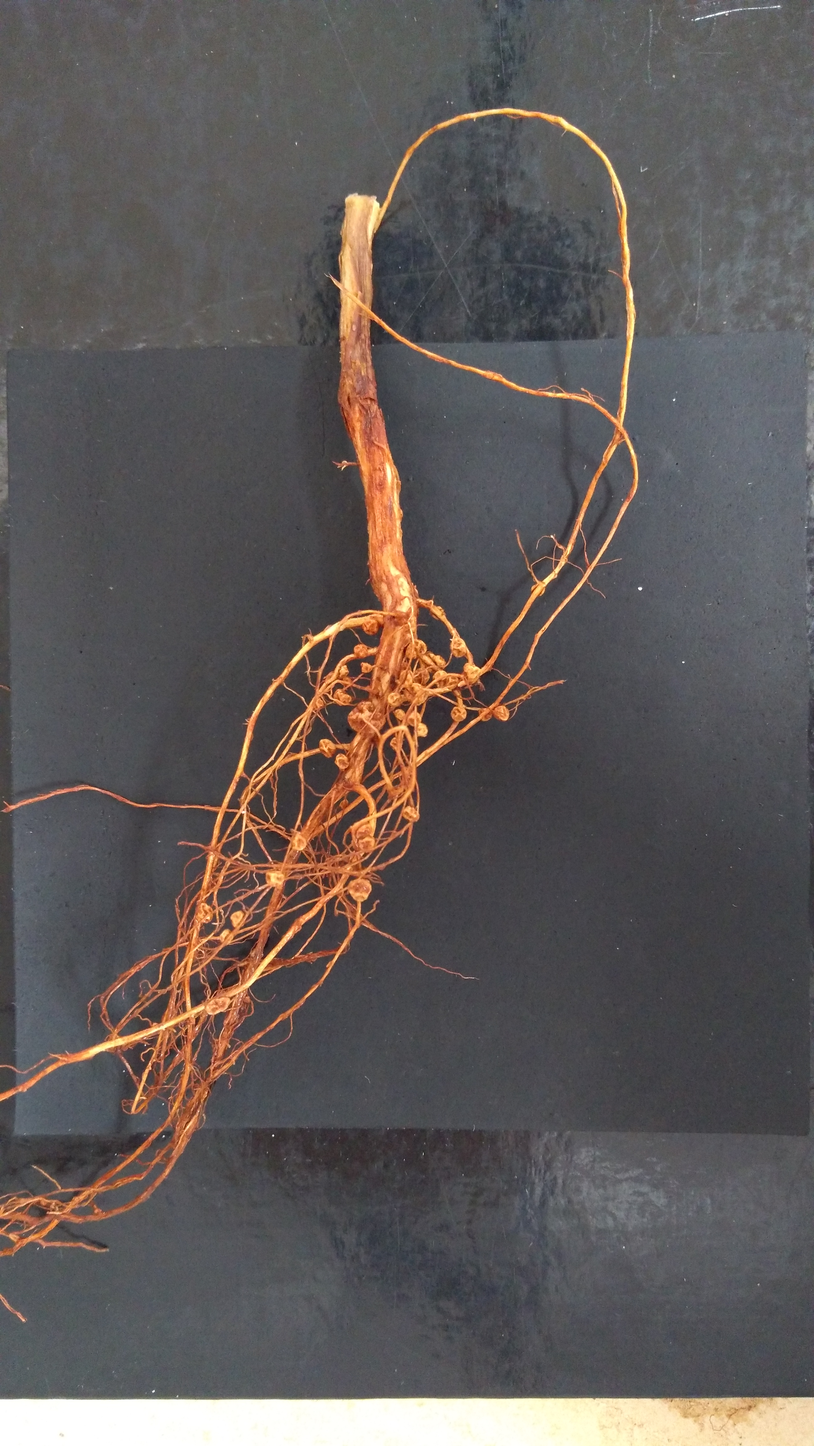nodule: (346, 701, 387, 735), (347, 878, 373, 903), (204, 996, 231, 1016), (405, 638, 428, 661), (410, 682, 429, 707), (463, 662, 482, 685), (351, 835, 375, 853), (195, 902, 214, 924), (448, 637, 467, 658), (332, 688, 352, 707), (318, 738, 337, 758), (360, 619, 381, 637), (402, 805, 421, 824), (432, 669, 448, 691), (265, 871, 286, 887), (290, 832, 307, 851), (413, 666, 430, 685), (229, 909, 245, 929), (492, 705, 510, 722), (429, 652, 446, 670), (334, 753, 350, 772), (352, 643, 369, 660), (406, 710, 423, 727), (395, 669, 412, 686), (354, 823, 372, 839), (450, 706, 468, 722), (430, 606, 448, 622), (393, 609, 409, 627), (530, 582, 546, 598), (219, 928, 233, 946), (445, 674, 459, 692), (387, 692, 403, 707), (477, 708, 493, 722), (416, 722, 429, 738), (340, 676, 353, 690), (360, 661, 373, 674), (338, 665, 349, 680), (394, 708, 406, 721), (315, 697, 325, 710), (390, 737, 398, 752), (339, 799, 348, 810), (39, 1198, 48, 1206), (243, 995, 250, 1004)
